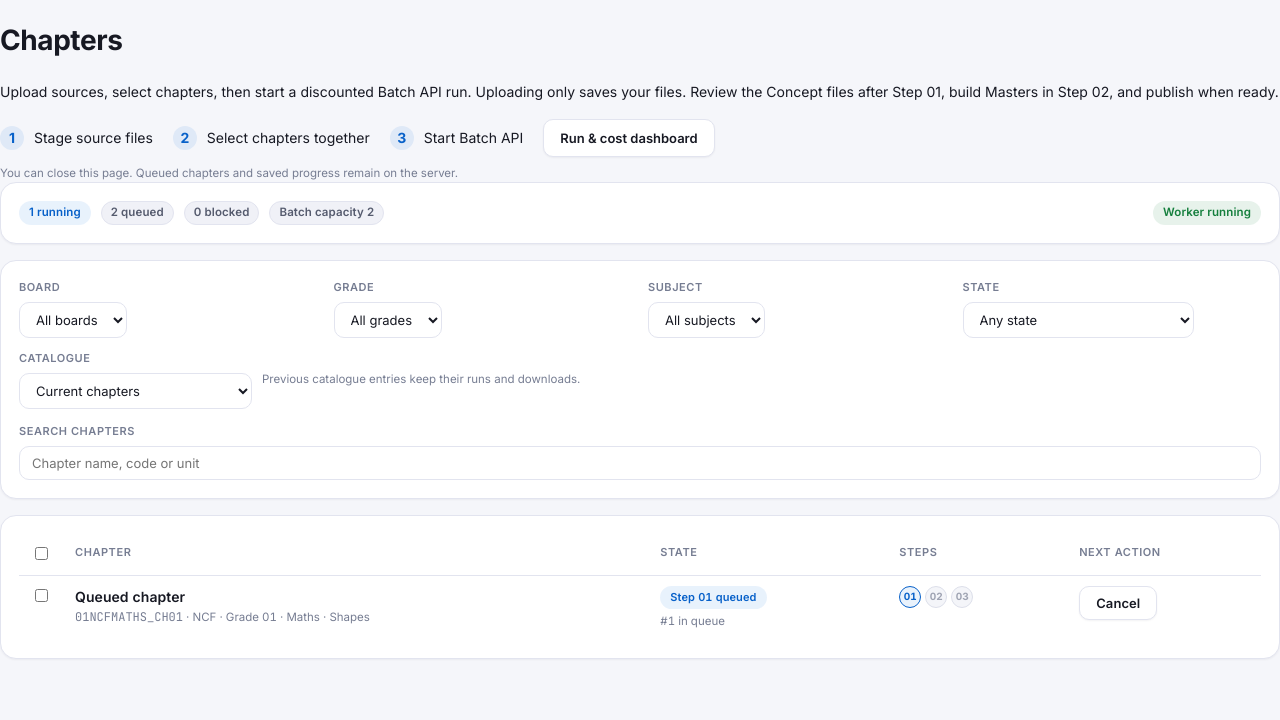
Scenario: a cancel receipt names the act the page sent, not an empty step
Check: the button "Queued chapter" is shown, box [75,586,185,608]
Click the checkbox named "Select Queued chapter" at (42, 596), box [35,589,48,602]
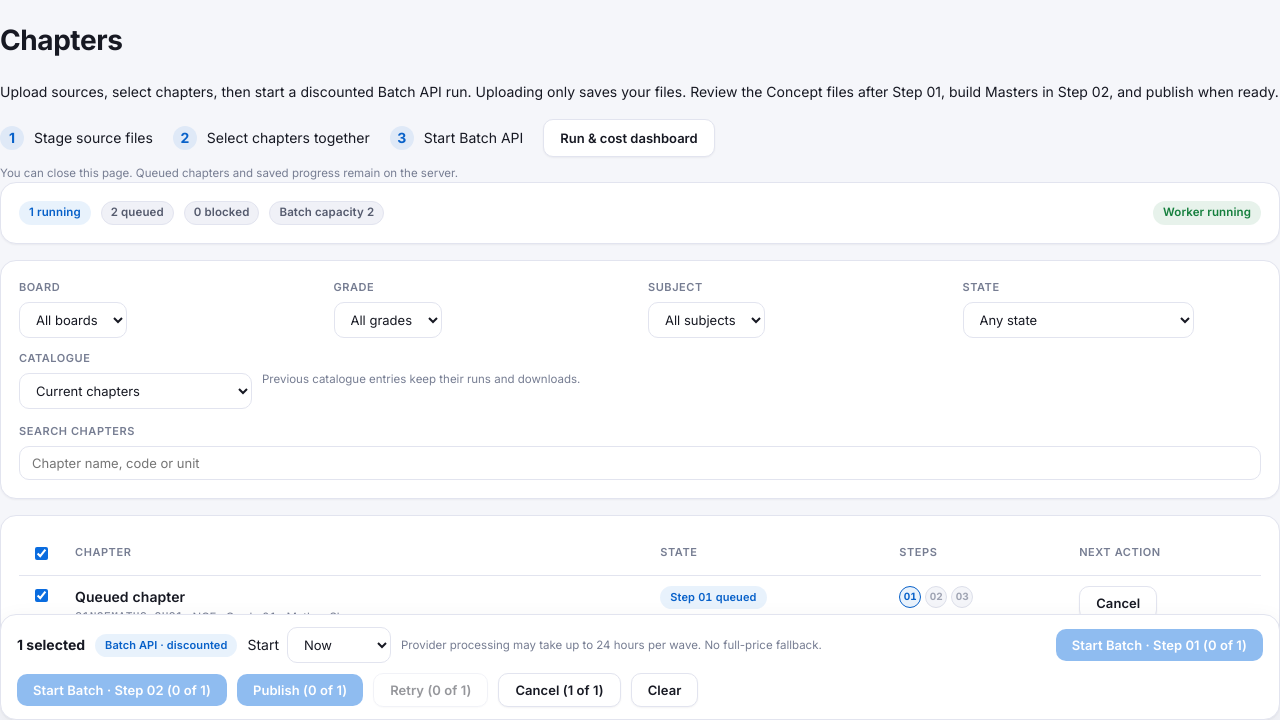
Click the button with test id "push-cancel" at (560, 690), box [498,673,621,707]
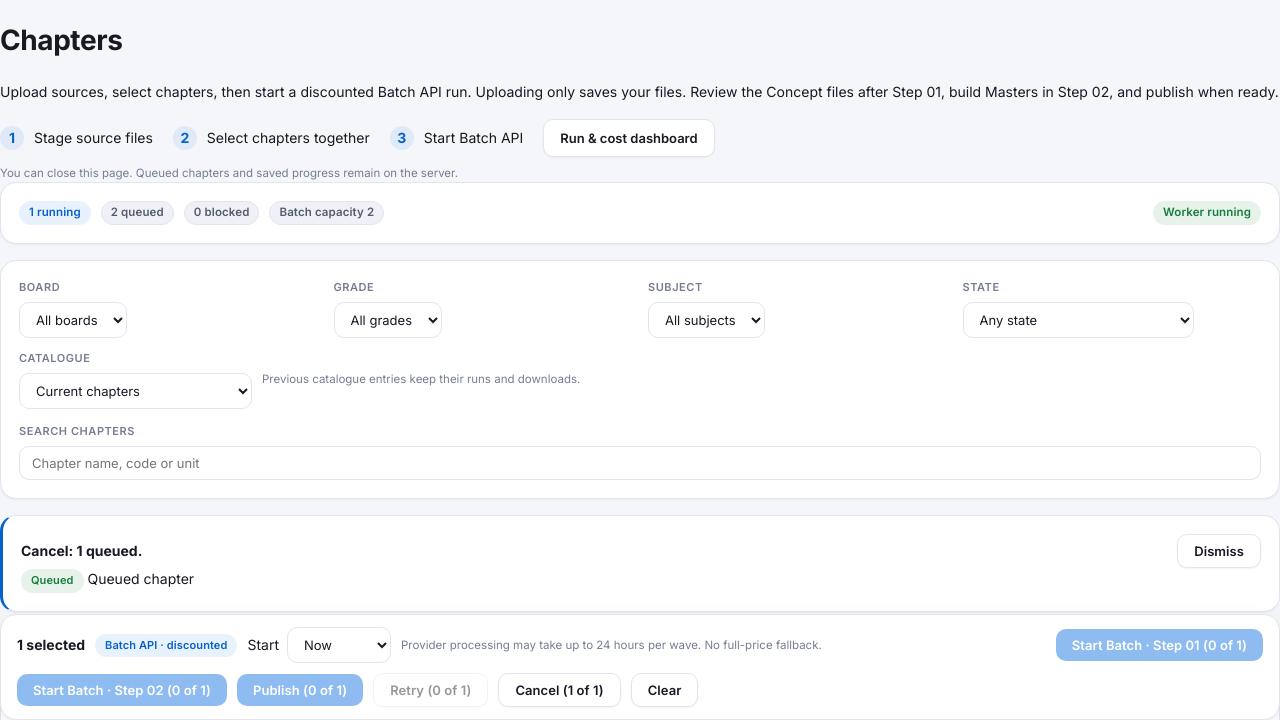
Check: the text with test id "chapter-push-receipt-line" reads "Cancel: 1 queued.", box [21,542,142,559]
